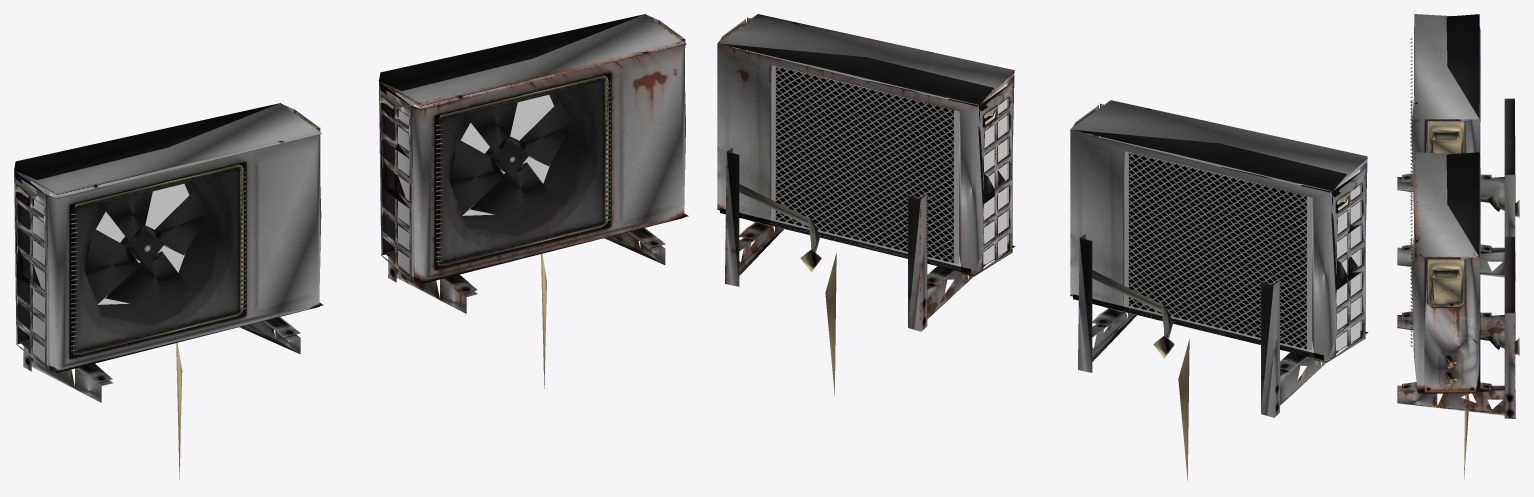
Rendered from aircon.glb.
The picture shows the model from 3 angles, left to right: view 1: azimuth 30°, elevation 25°; view 2: azimuth 150°, elevation 25°; view 3: azimuth 270°, elevation 25°; orthographic projection. The views are drawn at different scales.
Visible parts, largest first — view 1: exterior_aircon_unit, exterior_aircon_unit_rusted; view 2: exterior_aircon_unit_rusted, exterior_aircon_unit; view 3: exterior_aircon_unit_rusted, exterior_aircon_unit.
Part boxes in pixels (x1,y1,x2,y2): exterior_aircon_unit: (14,103,323,479); exterior_aircon_unit_rusted: (378,14,688,388); exterior_aircon_unit_rusted: (717,14,1015,396); exterior_aircon_unit: (1070,100,1368,480); exterior_aircon_unit_rusted: (1397,152,1519,479); exterior_aircon_unit: (1397,14,1519,280).
Size of the model in its own units: 1.8 by 0.9214 by 0.3741.
4 materials, 4 textured.
